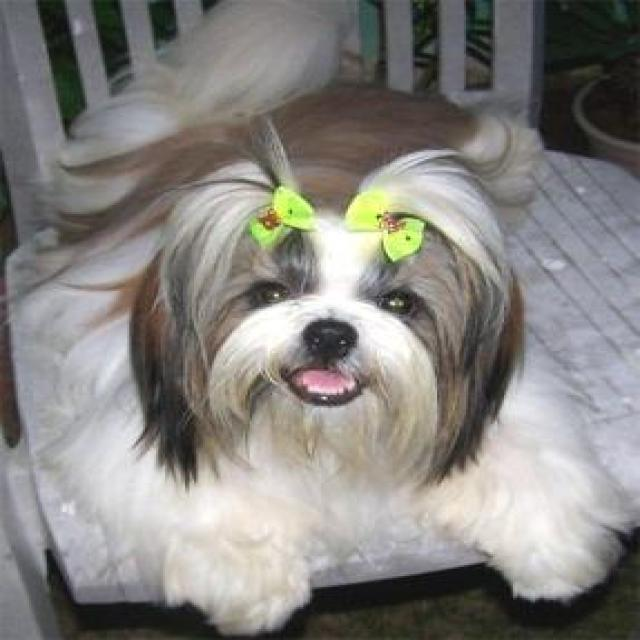husky: (18, 2, 638, 638)
